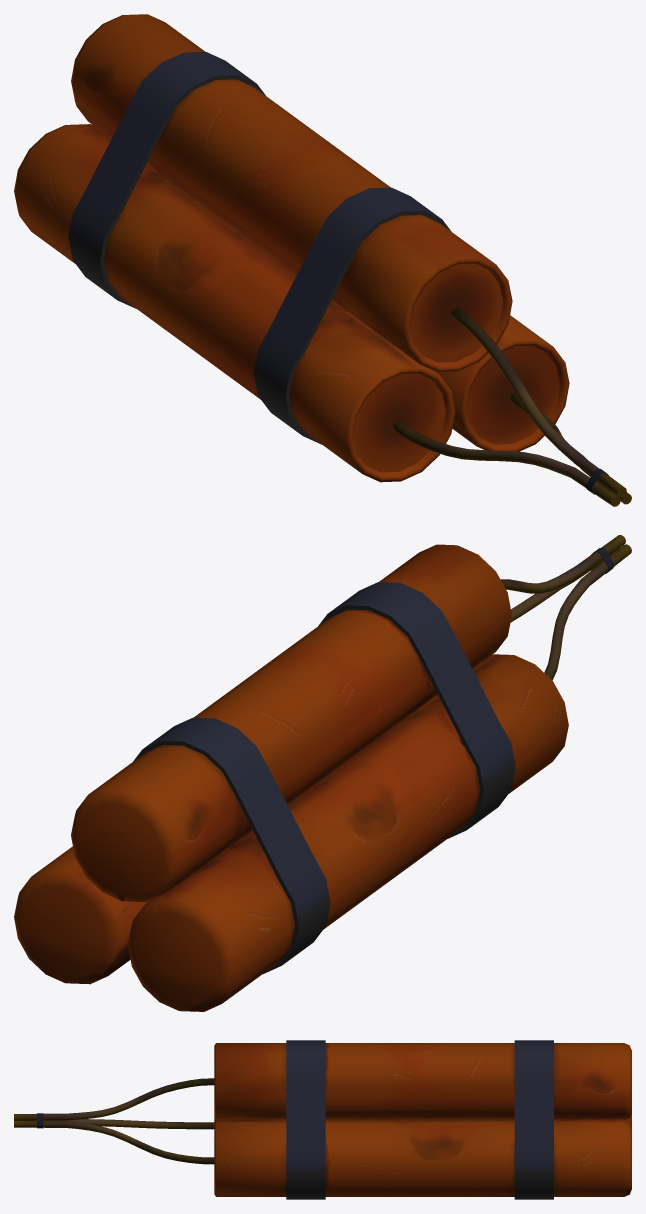
File: Dynamite.fbx
3 renders of one model, top to bottom at view 1: azimuth 30°, elevation 25°; view 2: azimuth 150°, elevation 25°; view 3: azimuth 270°, elevation 25°, orthographic. The views are drawn at different scales.
Parts seen in each view (by area): view 1: Cylinder.006; view 2: Cylinder.006; view 3: Cylinder.006.
Boxes of the visible parts, bbox=[...] form: Cylinder.006: bbox=[14, 14, 631, 506]; Cylinder.006: bbox=[14, 535, 631, 1011]; Cylinder.006: bbox=[14, 1040, 631, 1199].
Bounding box in the file's own units: 42.35 × 38.26 × 159.
1 material, 1 textured.
